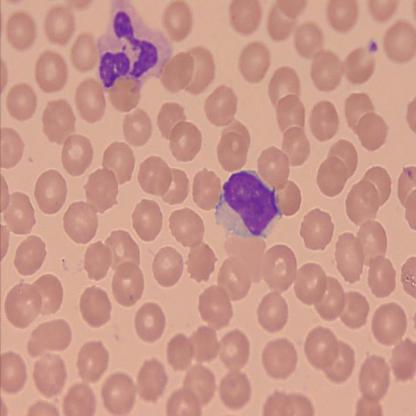Atypical lymphocyte: (96, 0, 173, 90), (212, 166, 284, 236)
